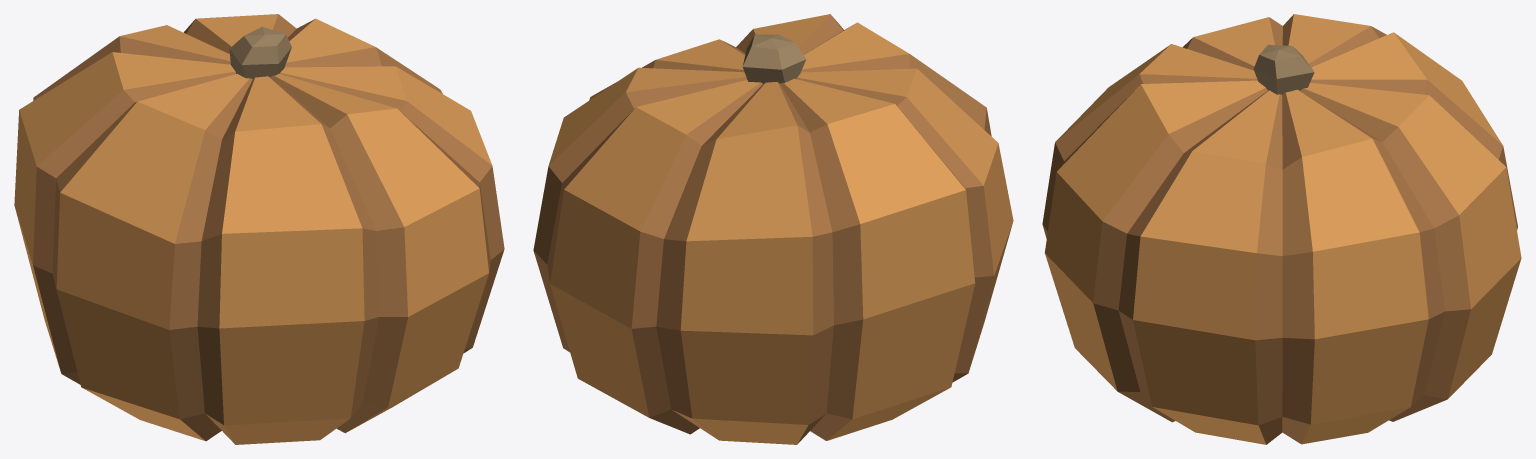
Rendered from pumpkin.glb.
3 renders of one model, left to right at view 1: azimuth 30°, elevation 25°; view 2: azimuth 150°, elevation 25°; view 3: azimuth 270°, elevation 25°, orthographic. The views are drawn at different scales.
Visible parts, largest first — view 1: SM_Prop_Pumpkin_01; view 2: SM_Prop_Pumpkin_01; view 3: SM_Prop_Pumpkin_01.
Part boxes in pixels (bbox=[...]): SM_Prop_Pumpkin_01: bbox=[14, 14, 504, 444]; SM_Prop_Pumpkin_01: bbox=[533, 14, 1013, 444]; SM_Prop_Pumpkin_01: bbox=[1042, 14, 1521, 444].
Bounding box in the file's own units: 0.5441 × 0.4291 × 0.5453.
1 material, 1 textured.
